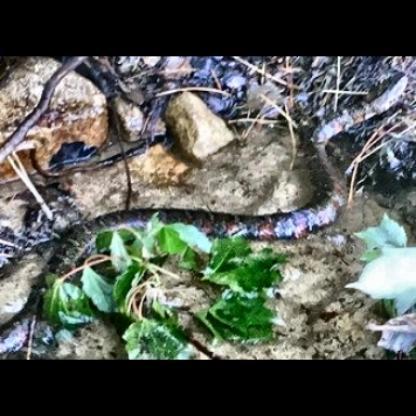Snake: (0, 65, 383, 280)
